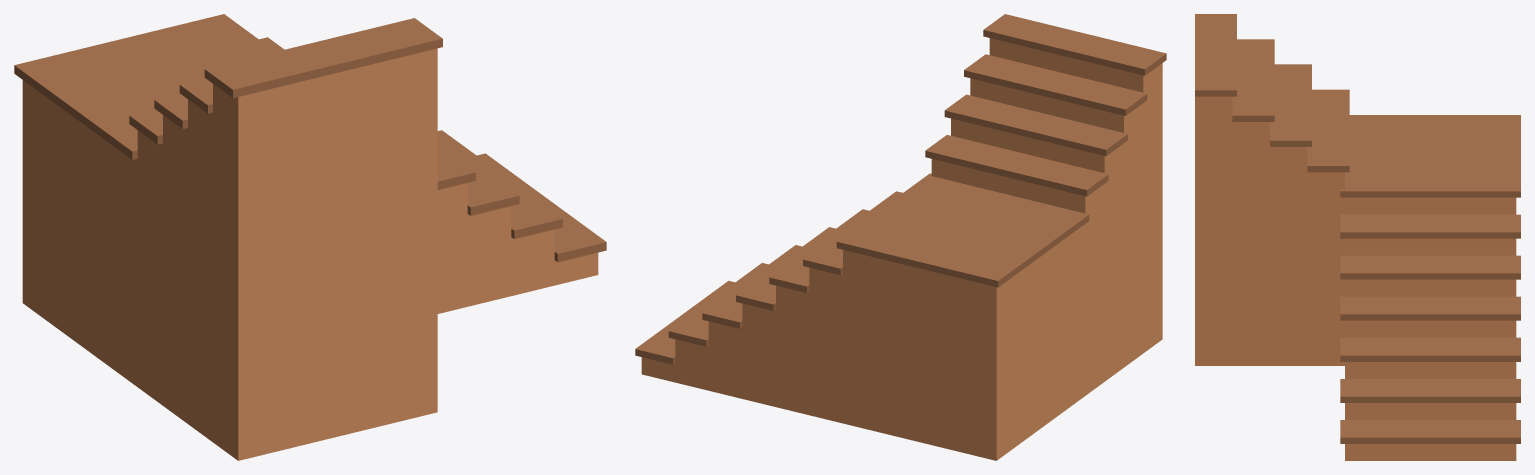
Rendered from stairsCorner.obj.
3 views of the same model, side by side, from view 1: azimuth 30°, elevation 25°; view 2: azimuth 150°, elevation 25°; view 3: azimuth 270°, elevation 25° (orthographic). The views are drawn at different scales.
Visible parts, largest first — view 1: stairsCorner; view 2: stairsCorner; view 3: stairsCorner.
Part boxes in pixels (box(x1,y1,x2,y2)): stairsCorner: box(14, 14, 606, 460); stairsCorner: box(635, 14, 1166, 460); stairsCorner: box(1195, 14, 1520, 460).
Size of the model in its own units: 1.77 by 1.34 by 1.43.
